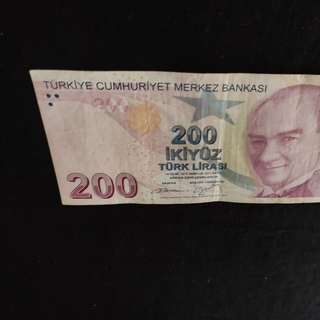200TLFront: (28, 67, 320, 205)
